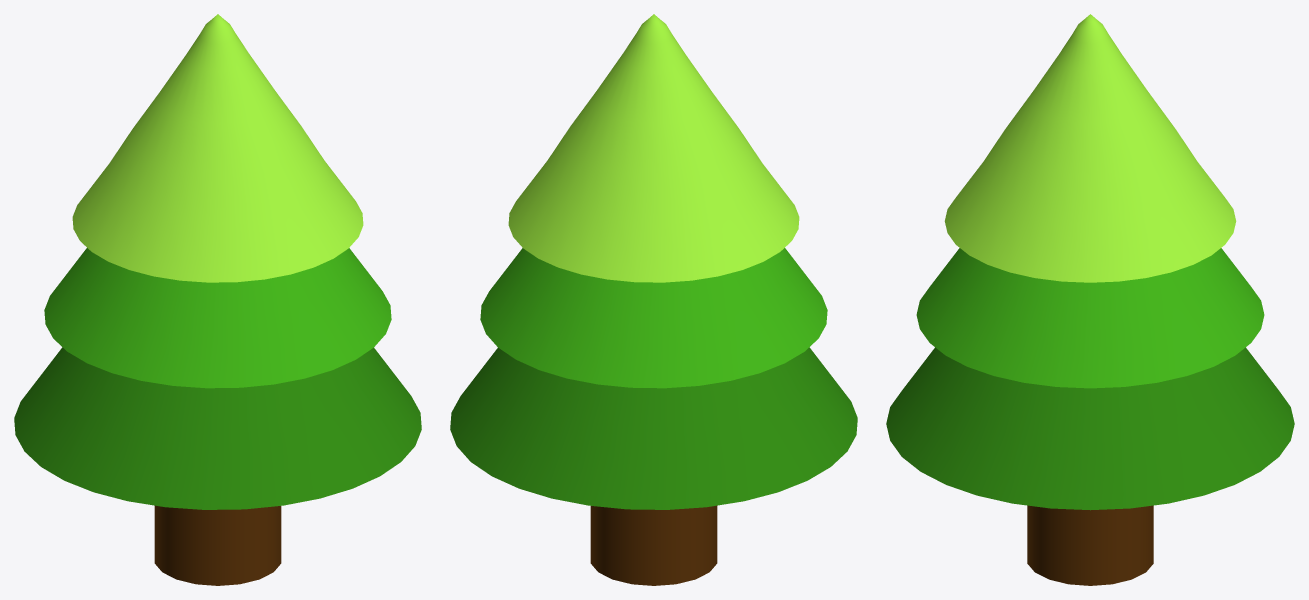
Rendered from tree1.obj.
3 views of the same model, side by side, from view 1: azimuth 30°, elevation 25°; view 2: azimuth 150°, elevation 25°; view 3: azimuth 270°, elevation 25° (orthographic).
Parts seen in each view (by area): view 1: Sphere003, Sphere001, Sphere002, Cylinder001; view 2: Sphere003, Sphere001, Sphere002, Cylinder001; view 3: Sphere003, Sphere001, Sphere002, Cylinder001.
Boxes of the visible parts, left/top/right/bottom form: Sphere003: left=14, top=347, right=421, bottom=509; Sphere001: left=72, top=14, right=363, bottom=282; Sphere002: left=44, top=248, right=391, bottom=388; Cylinder001: left=154, top=505, right=281, bottom=585; Sphere003: left=450, top=347, right=857, bottom=509; Sphere001: left=508, top=14, right=799, bottom=282; Sphere002: left=480, top=248, right=827, bottom=388; Cylinder001: left=590, top=505, right=717, bottom=585; Sphere003: left=886, top=347, right=1294, bottom=510; Sphere001: left=944, top=14, right=1236, bottom=282; Sphere002: left=916, top=248, right=1264, bottom=388; Cylinder001: left=1027, top=505, right=1153, bottom=585.
Bounding box in the file's own units: 24.53 × 36.09 × 24.53.
4 materials, 4 textured.
